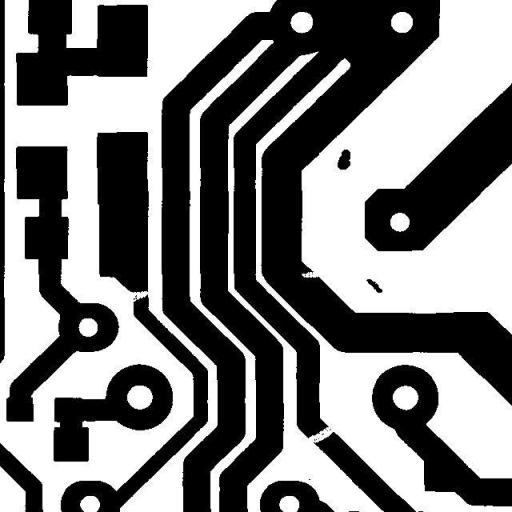copper: (330, 142, 358, 176), (358, 271, 390, 300)
mousebite: (294, 264, 326, 285)
open: (298, 418, 342, 450), (122, 283, 156, 310)
